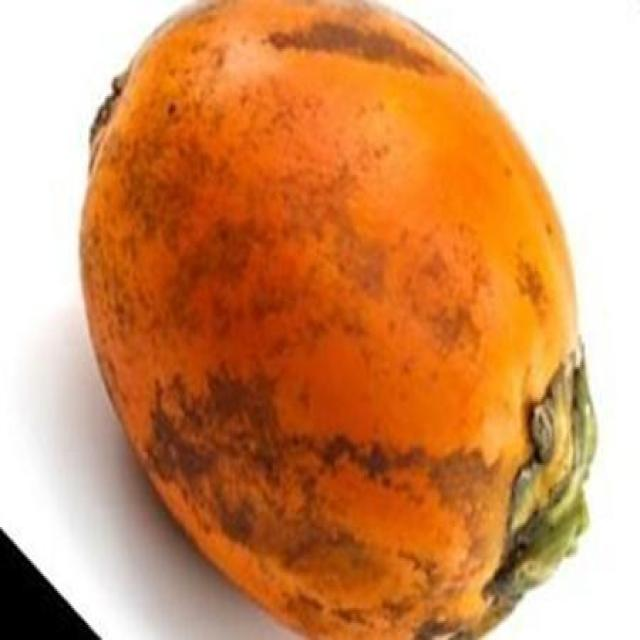good: (78, 0, 599, 638)
